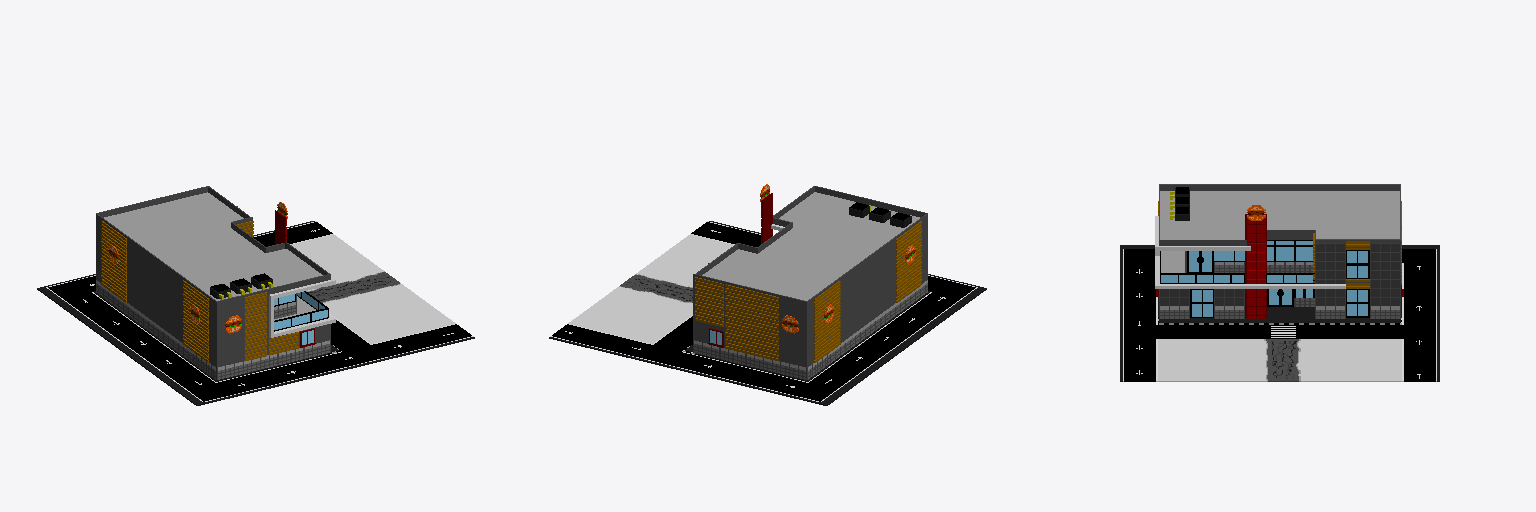
3 renders of one model, left to right at view 1: azimuth 30°, elevation 25°; view 2: azimuth 150°, elevation 25°; view 3: azimuth 270°, elevation 25°, orthographic.
Parts seen in each view (by area): view 1: object 1; view 2: object 1; view 3: object 1.
Part boxes in pixels (x1,y1,x2,y2): object 1: (37,186,474,405); object 1: (549,184,986,405); object 1: (1120,184,1439,381).
Bounding box in the file's own units: 25.6 × 10.2 × 25.5.
Materials: 1 (1 with a texture image).